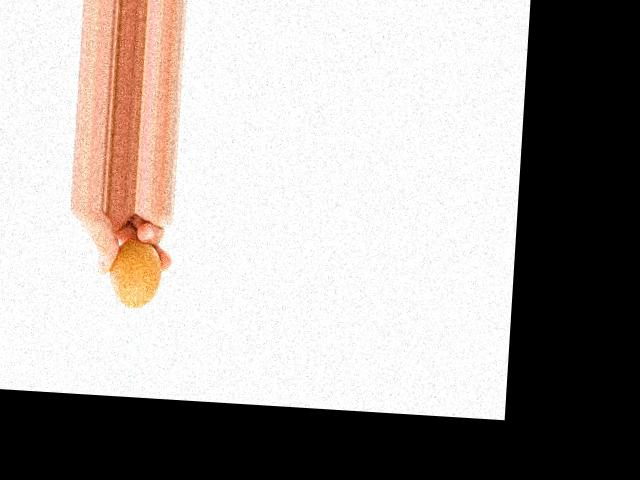egg: (108, 239, 164, 309)
